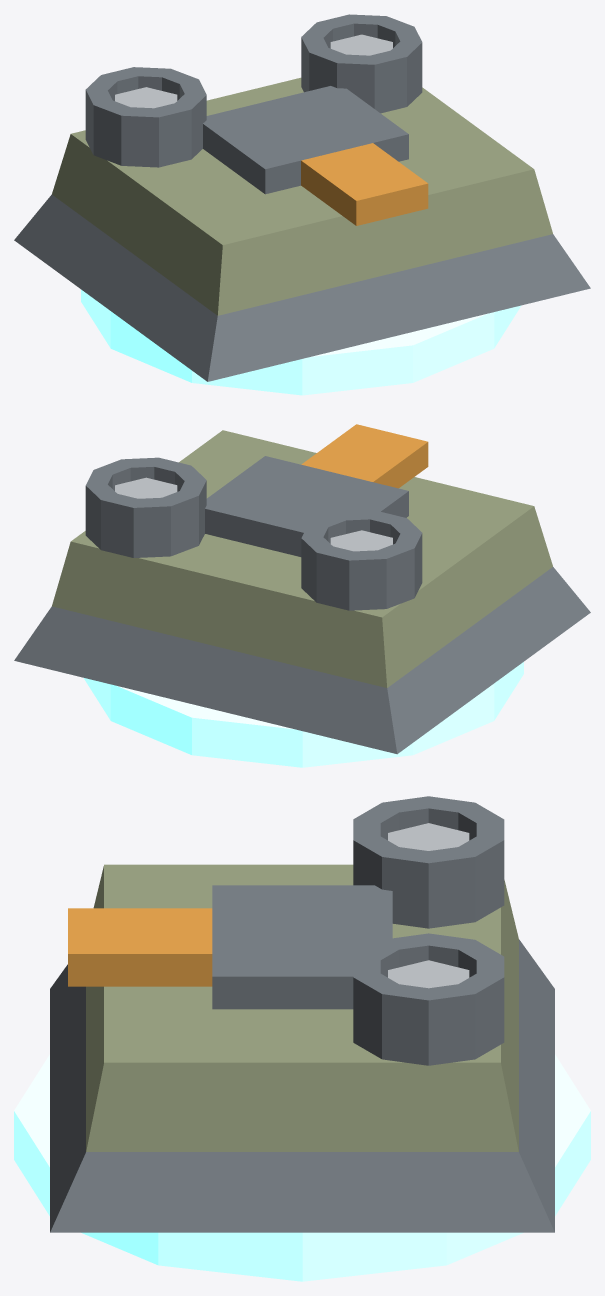
Rendered from mech-hangar-and-battle-frames-hover-skirt-base-7a9fee0d__26830.glb.
The picture shows the model from 3 angles, top to bottom: view 1: azimuth 30°, elevation 25°; view 2: azimuth 150°, elevation 25°; view 3: azimuth 270°, elevation 25°; orthographic projection. The views are drawn at different scales.
Parts seen in each view (by area): view 1: hover-skirt-base; view 2: hover-skirt-base; view 3: hover-skirt-base.
Boxes of the visible parts, left/top/right/bottom form: hover-skirt-base: left=14, top=14, right=590, bottom=395; hover-skirt-base: left=14, top=424, right=590, bottom=767; hover-skirt-base: left=14, top=796, right=590, bottom=1281.
Size of the model in its own units: 1.6 by 0.8 by 1.6.
